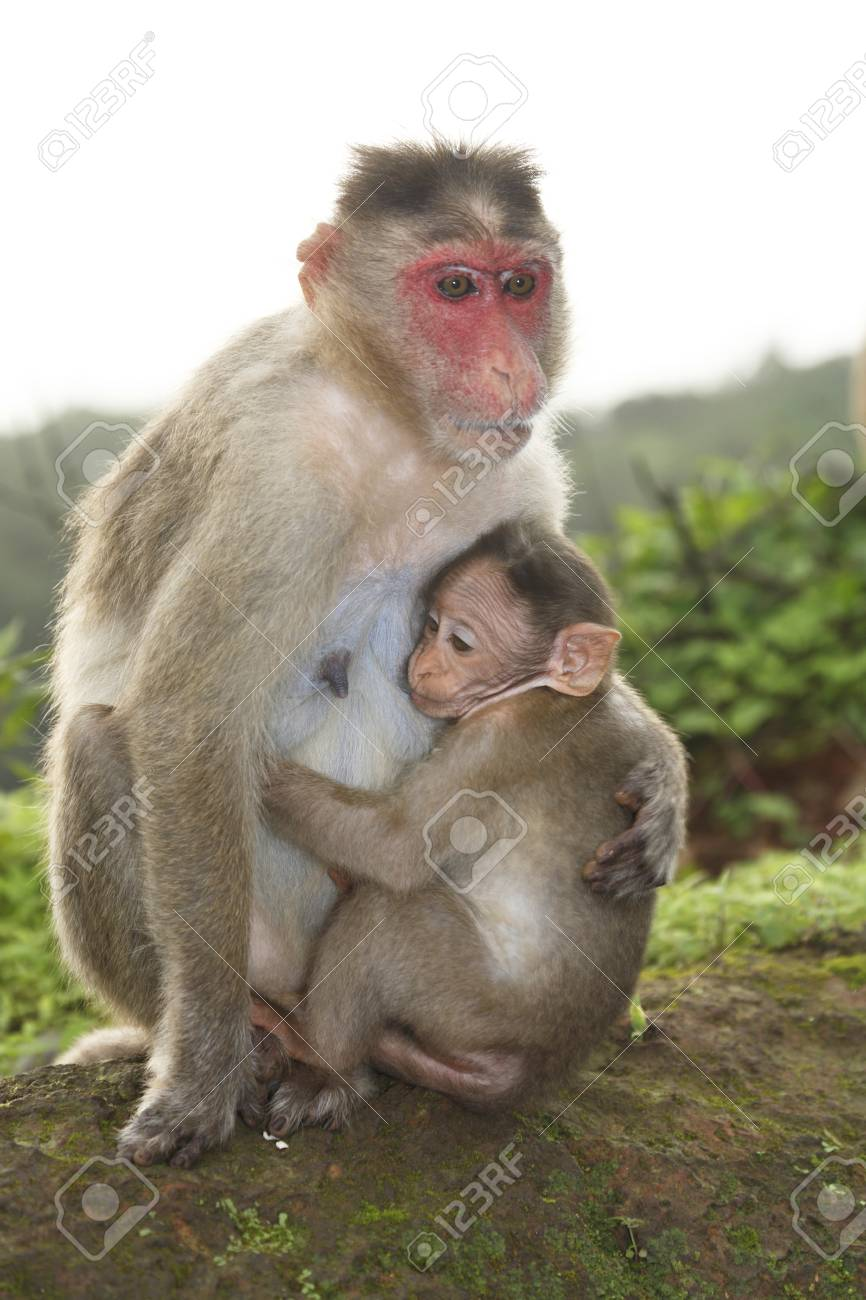monkey: (42, 131, 697, 1165), (301, 539, 654, 1106)
